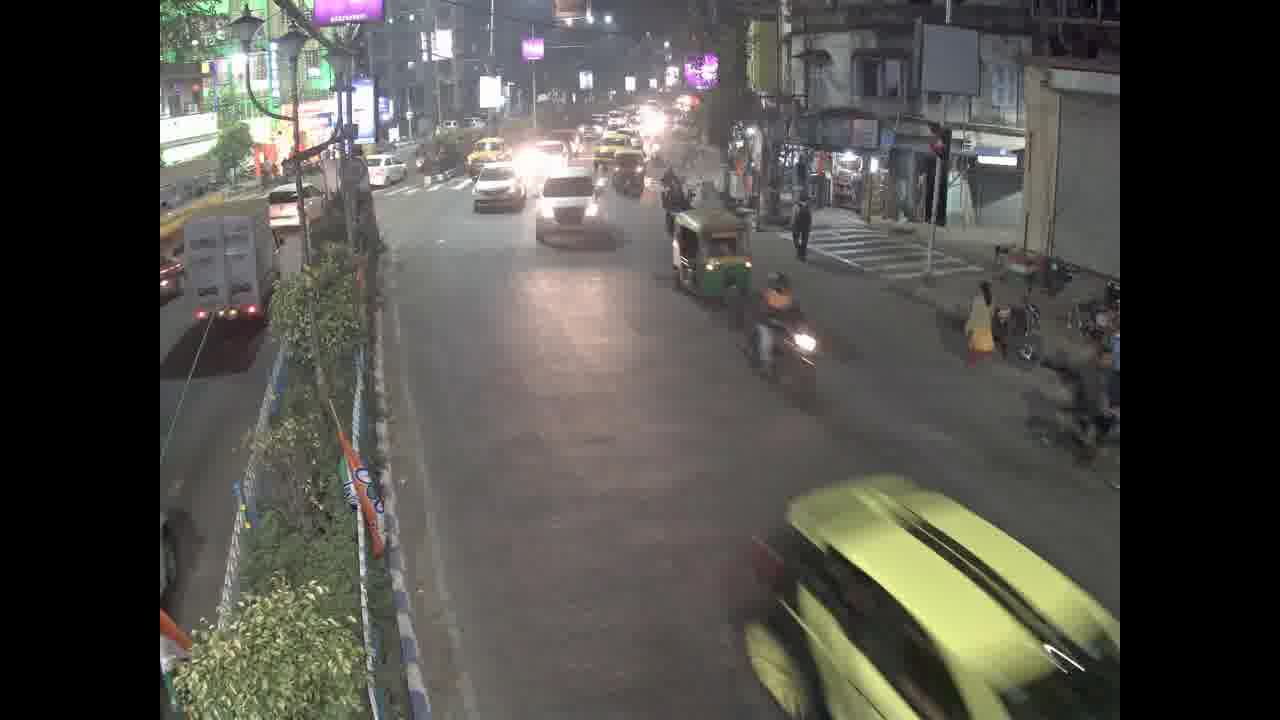auto-rickshaw: (676, 215, 748, 303), (613, 152, 645, 200)
bike: (743, 315, 826, 395)
car: (775, 483, 1128, 720), (529, 169, 608, 244), (472, 157, 529, 221), (467, 129, 507, 164)
person: (960, 276, 999, 368), (785, 192, 830, 266), (759, 263, 800, 320)
